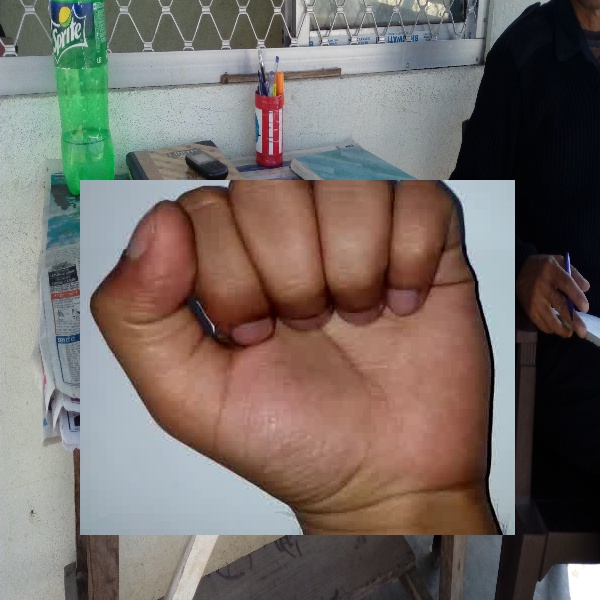A: (80, 180, 515, 535)
